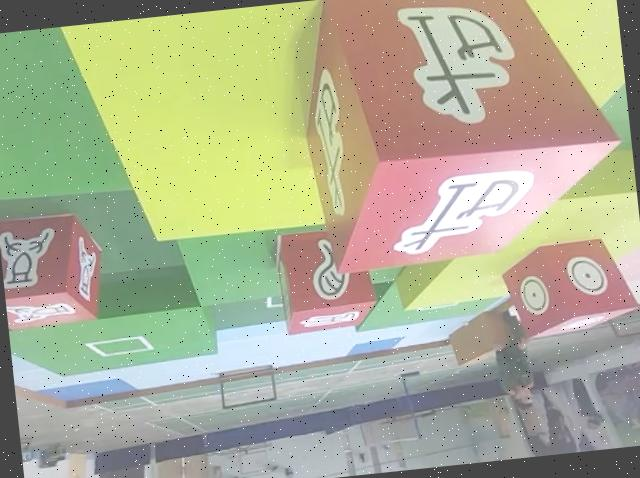R2 Fake: (270, 220, 383, 335)
R2 Real: (289, 0, 635, 275), (496, 232, 640, 343), (0, 207, 109, 332)
